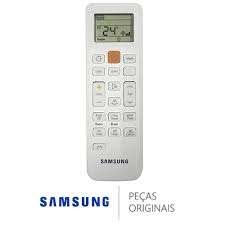remote control: (84, 3, 146, 181)
